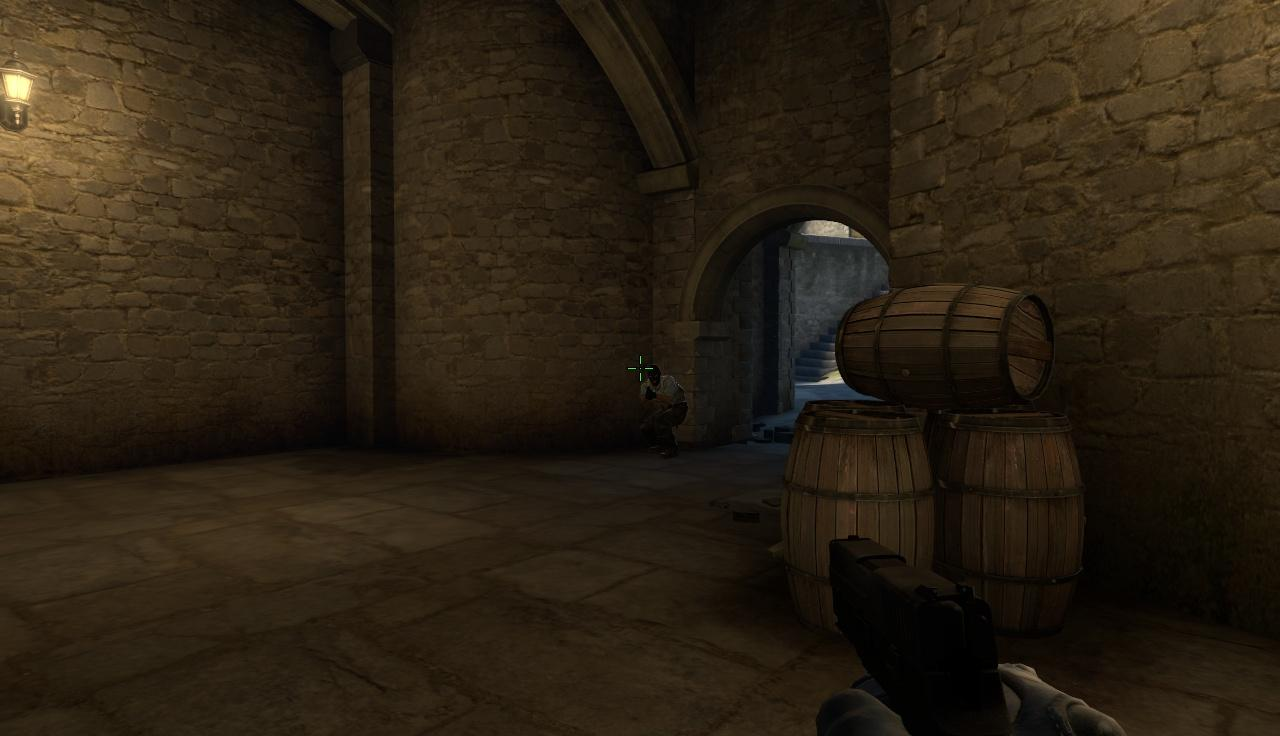pistol: (820, 535, 1067, 736)
tt: (646, 362, 689, 461)
tthead: (646, 365, 663, 385)
